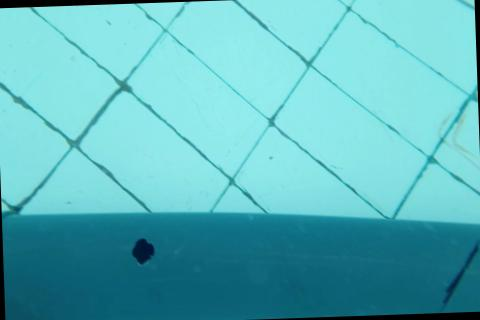kebocoran: (131, 237, 156, 269)
keretakan: (435, 238, 480, 313)
